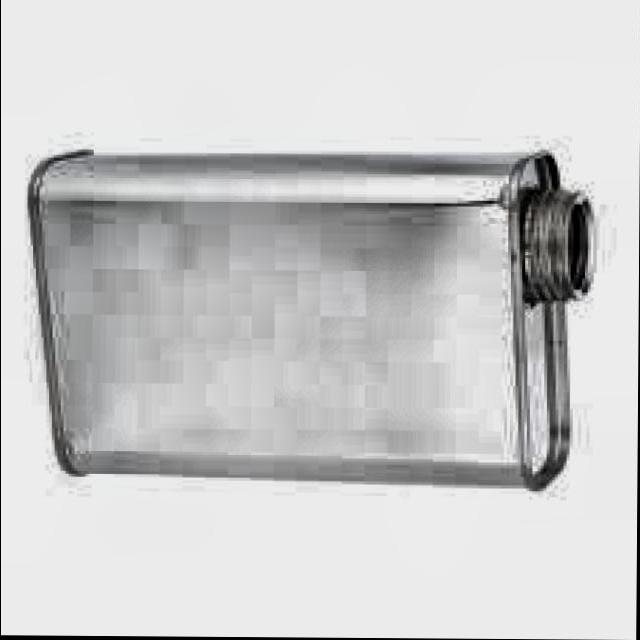Aluminum Can: (16, 138, 610, 508)
